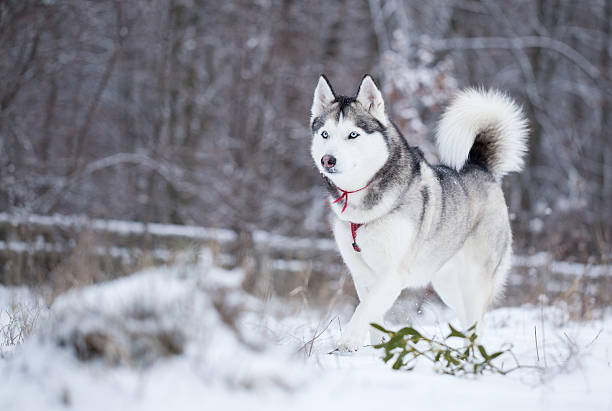husky: (295, 65, 527, 342)
